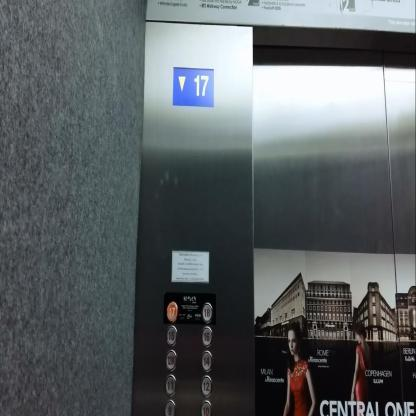10: (200, 400, 212, 416)
11: (164, 373, 177, 397)
12: (200, 374, 212, 398)
12M: (164, 349, 178, 372)
14: (200, 350, 213, 372)
15: (166, 325, 177, 346)
16: (200, 325, 212, 348)
17: (166, 299, 178, 322)
18: (201, 300, 213, 324)
9: (163, 398, 176, 416)
led: (173, 64, 214, 110)
